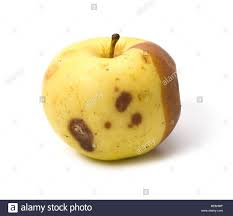damaged_apple: (46, 39, 194, 159)
